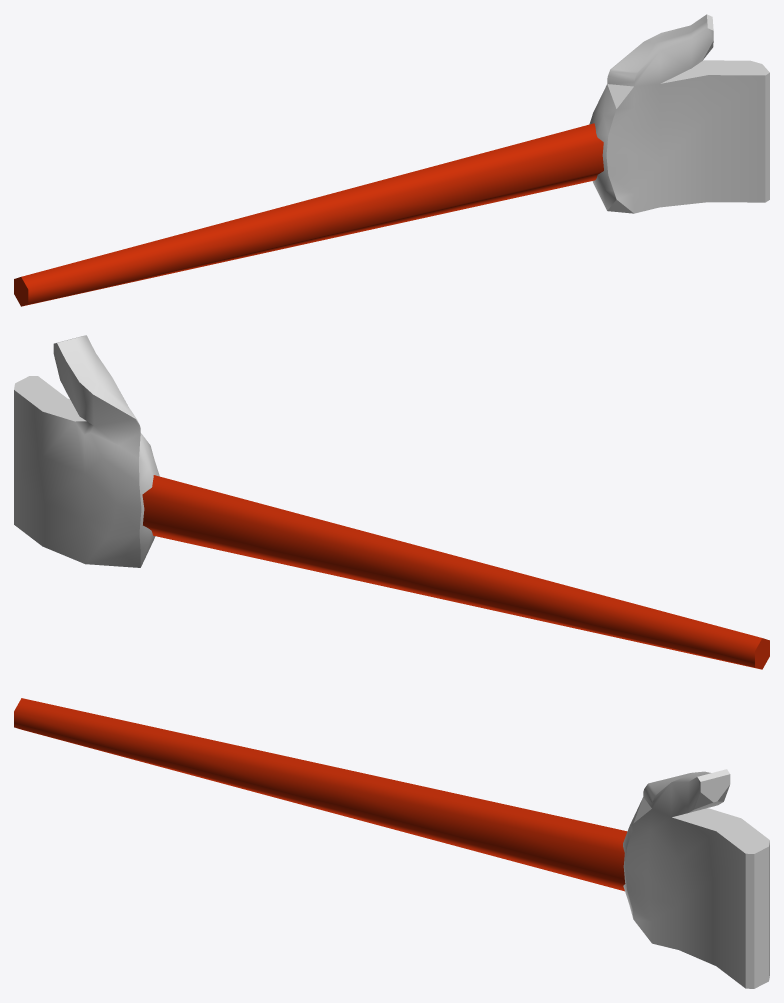
The model's file is Char_Hand_Orange.FBX.
3 views of the same model, one above another, from view 1: azimuth 30°, elevation 25°; view 2: azimuth 150°, elevation 25°; view 3: azimuth 330°, elevation 25° (orthographic). The views are drawn at different scales.
Parts seen in each view (by area): view 1: HandOrange; view 2: HandOrange; view 3: HandOrange.
Part boxes in pixels (bbox=[...]): HandOrange: bbox=[14, 14, 769, 306]; HandOrange: bbox=[14, 335, 769, 669]; HandOrange: bbox=[14, 698, 769, 988].
Bounding box in the file's own units: 23.19 × 5.6 × 2.24.
